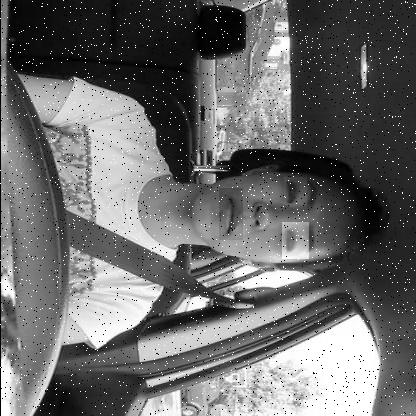seatbelt: (68, 142, 404, 282)
